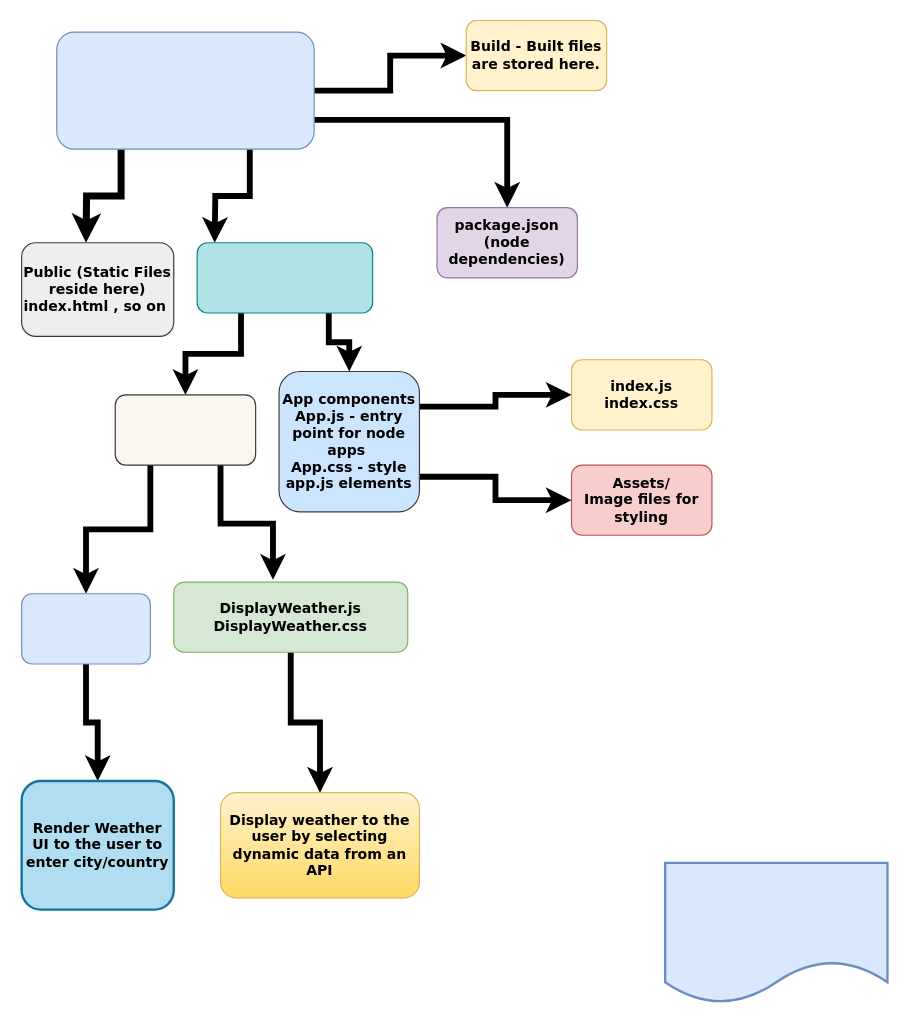
Some shapes in this 908 by 1025 pixel diagram are drawn without their labels. The centre of each missing label's shape, as x and y in pixels:
"Create React app with node modules and react-router-dom installed" belongs at pixel 185 90.
"React Components" belongs at pixel 185 429.
"Source Folder (.src) Dynamic Files reside here" belongs at pixel 284 277.
"Weather App Flow Diagram" belongs at pixel 775 932.
"Weather.js Weather.css" belongs at pixel 85 628.
